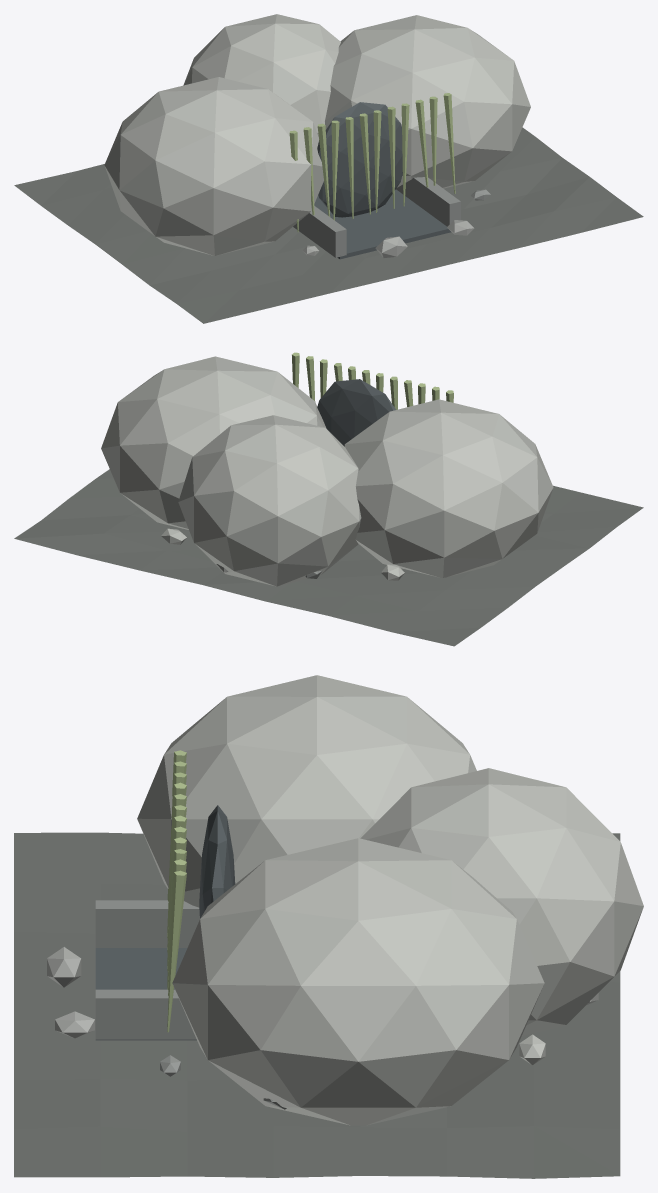
The model's file is boulder_moss_curtain_revealed.glb.
3 renders of one model, top to bottom at view 1: azimuth 30°, elevation 25°; view 2: azimuth 150°, elevation 25°; view 3: azimuth 270°, elevation 25°, orthographic. The views are drawn at different scales.
Visible parts, largest first — view 1: boulder_moss_curtain_revealed_color_03, boulder_moss_curtain_revealed_color_00, boulder_moss_curtain_revealed_color_04, boulder_moss_curtain_revealed_color_05, boulder_moss_curtain_revealed_color_01, boulder_moss_curtain_revealed_color_02; view 2: boulder_moss_curtain_revealed_color_03, boulder_moss_curtain_revealed_color_00, boulder_moss_curtain_revealed_color_04, boulder_moss_curtain_revealed_color_05; view 3: boulder_moss_curtain_revealed_color_03, boulder_moss_curtain_revealed_color_00, boulder_moss_curtain_revealed_color_01, boulder_moss_curtain_revealed_color_04, boulder_moss_curtain_revealed_color_05, boulder_moss_curtain_revealed_color_02.
Boxes of the visible parts, x1,y1,x2,y2 form: boulder_moss_curtain_revealed_color_03: (104, 14, 530, 255); boulder_moss_curtain_revealed_color_00: (14, 127, 643, 323); boulder_moss_curtain_revealed_color_04: (314, 102, 451, 259); boulder_moss_curtain_revealed_color_05: (289, 93, 455, 232); boulder_moss_curtain_revealed_color_01: (293, 177, 490, 257); boulder_moss_curtain_revealed_color_02: (302, 220, 474, 257); boulder_moss_curtain_revealed_color_03: (101, 356, 553, 586); boulder_moss_curtain_revealed_color_00: (14, 469, 643, 646); boulder_moss_curtain_revealed_color_04: (317, 379, 395, 445); boulder_moss_curtain_revealed_color_05: (292, 352, 453, 409); boulder_moss_curtain_revealed_color_03: (137, 675, 643, 1125); boulder_moss_curtain_revealed_color_00: (14, 832, 620, 1178); boulder_moss_curtain_revealed_color_01: (95, 900, 286, 1109); boulder_moss_curtain_revealed_color_04: (95, 805, 235, 1040); boulder_moss_curtain_revealed_color_05: (167, 750, 186, 1032); boulder_moss_curtain_revealed_color_02: (47, 947, 598, 1038).
Size of the model in its own units: 3.93 by 1.38 by 3.05.
